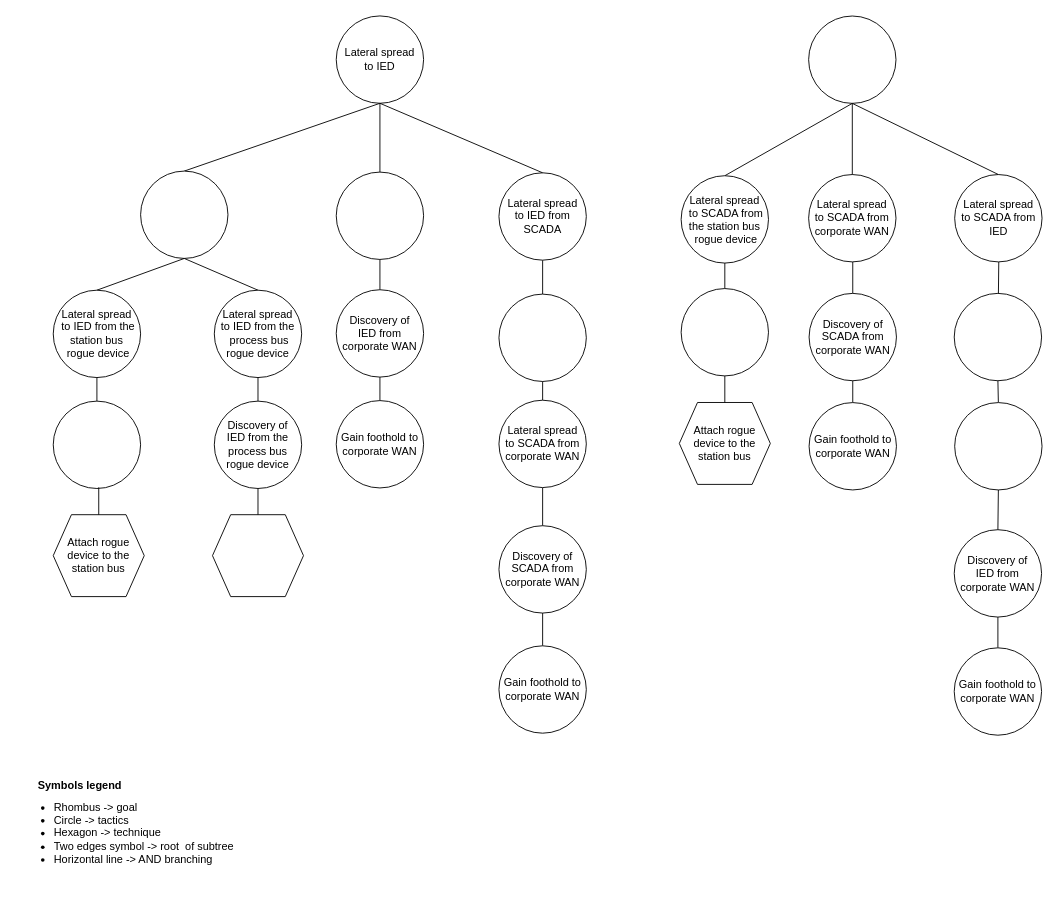
Some shapes in this 1058 by 899 pixel diagram are drawn without their labels. The shapes that lost their labels are listed below. From the top down, each one's centre as x and y in pixels, then its label:
At point (852, 59): "Lateral spread to SCADA".
At point (184, 214): "Lateral spread to IED from rogue device".
At point (379, 215): "Lateral spread to IED from corporate WAN".
At point (542, 337): "Discovery of IED from SCADA".
At point (724, 332): "Discovery of SCADA from the station bus device".
At point (997, 336): "Discovery of SCADA from IED".
At point (96, 444): "Discovery of IED from the station bus device".
At point (998, 446): "Latereal spread to IED from corporate WAN".
At point (257, 555): "Attach rogue device to the process bus".
